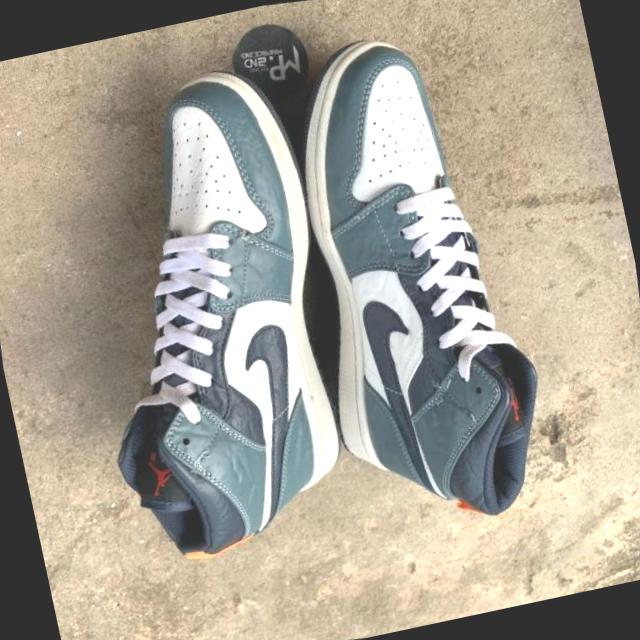nike_fake_jordan: (30, 40, 392, 589), (245, 5, 596, 551)
